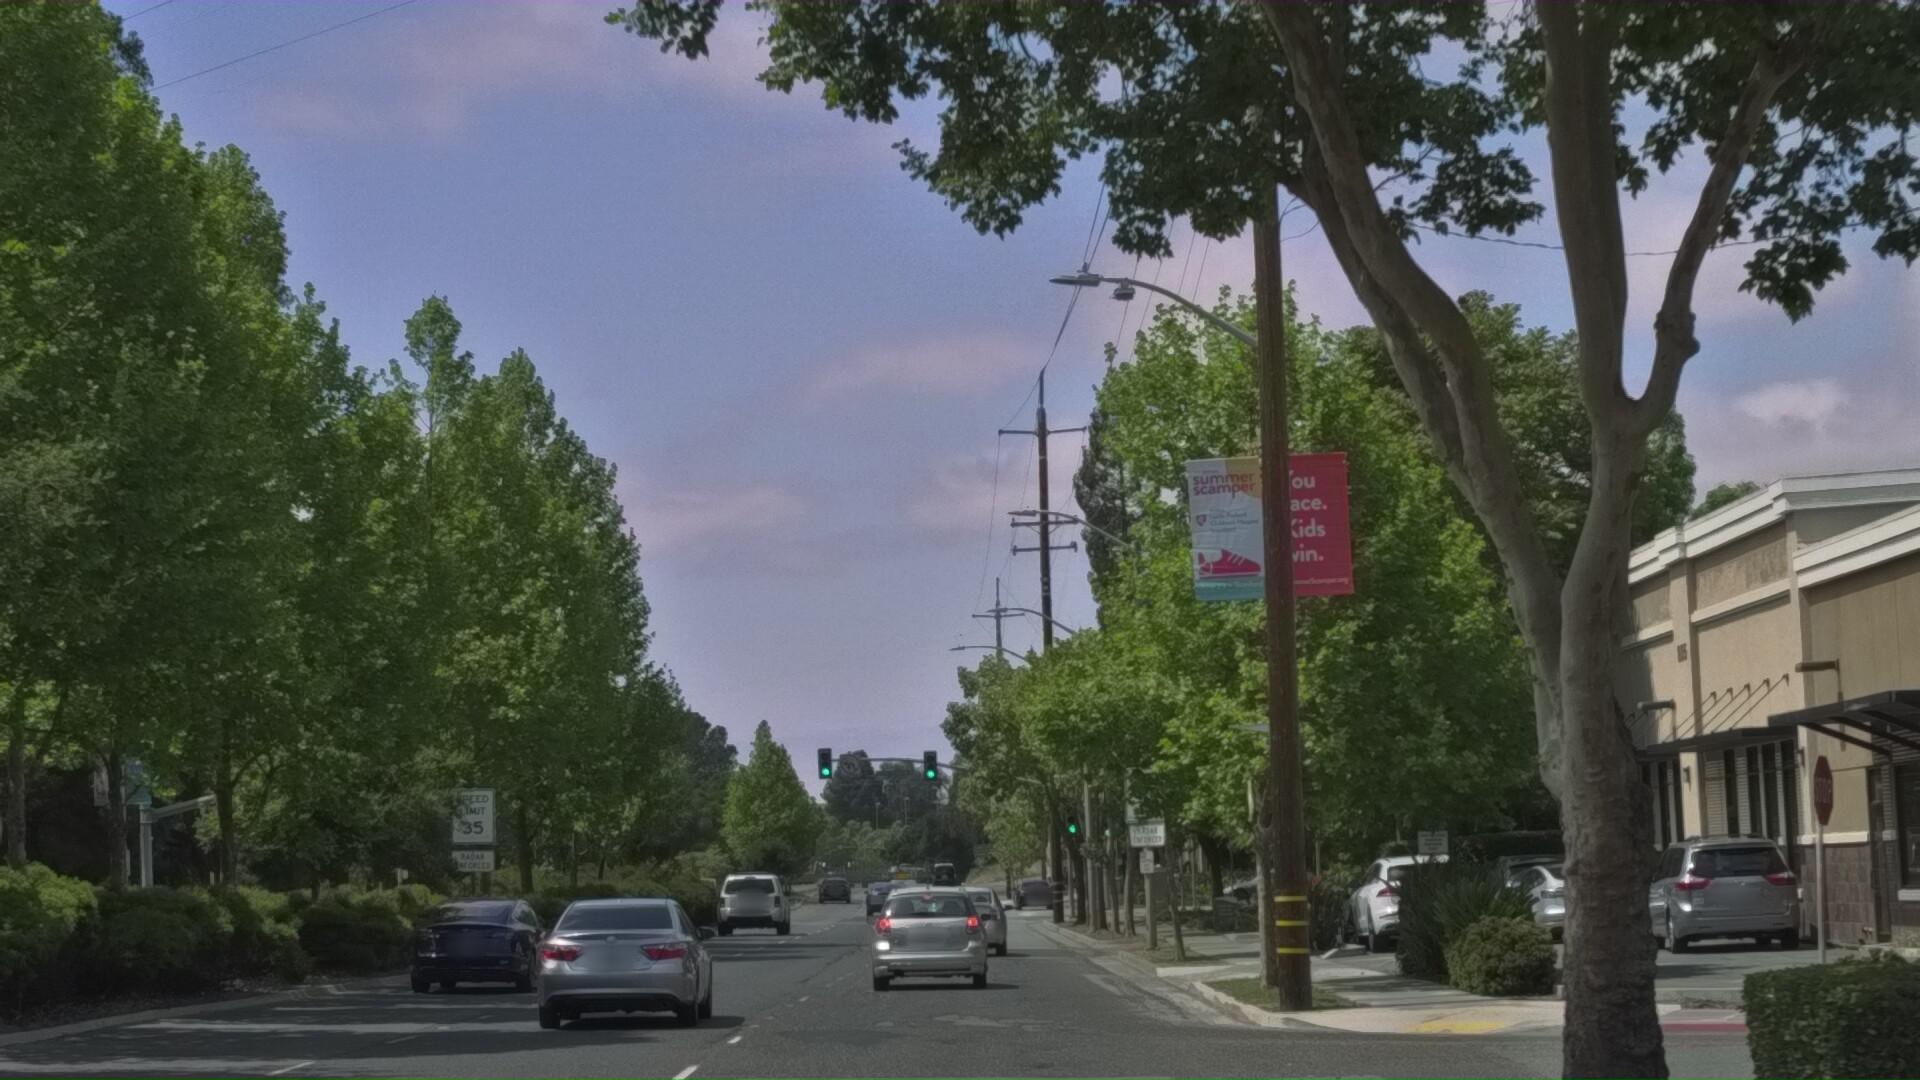car: (1639, 924, 1811, 1048), (524, 992, 731, 1080), (1341, 939, 1491, 1044), (402, 986, 564, 1080), (866, 975, 1006, 1080), (1501, 944, 1648, 1040), (935, 985, 1025, 1067)
